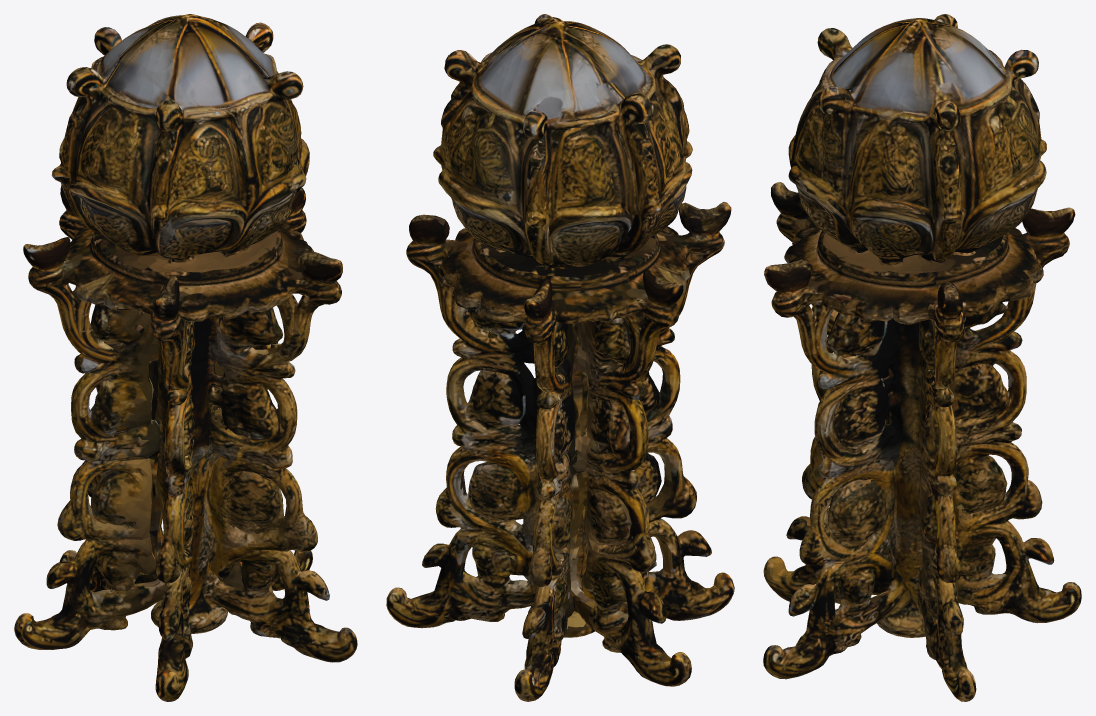
The picture shows the model from 3 angles, left to right: view 1: azimuth 30°, elevation 25°; view 2: azimuth 150°, elevation 25°; view 3: azimuth 270°, elevation 25°; orthographic projection.
Parts seen in each view (by area): view 1: textured_mesh; view 2: textured_mesh; view 3: textured_mesh.
Part boxes in pixels (box(x1,y1,x2,y2)): textured_mesh: box(14, 14, 357, 701); textured_mesh: box(386, 14, 734, 701); textured_mesh: box(763, 14, 1081, 701).
Size of the model in its own units: 1.01 by 1.99 by 0.9304.
Materials: 1 (1 with a texture image).
